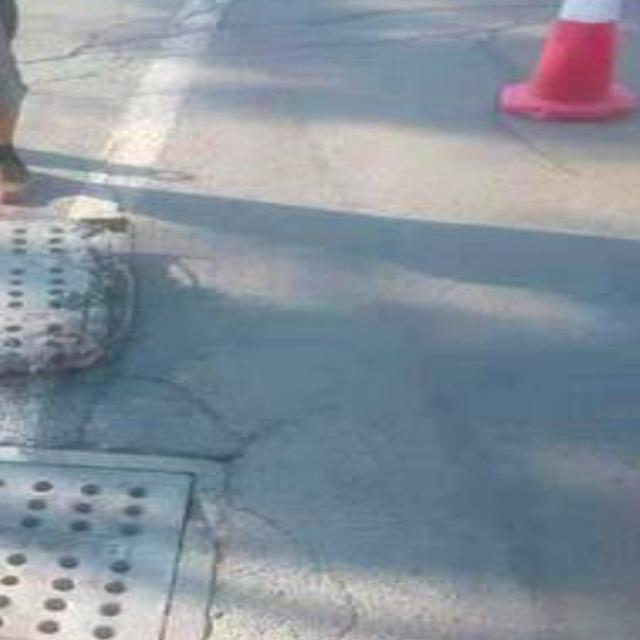circle: (0, 396, 385, 640)
